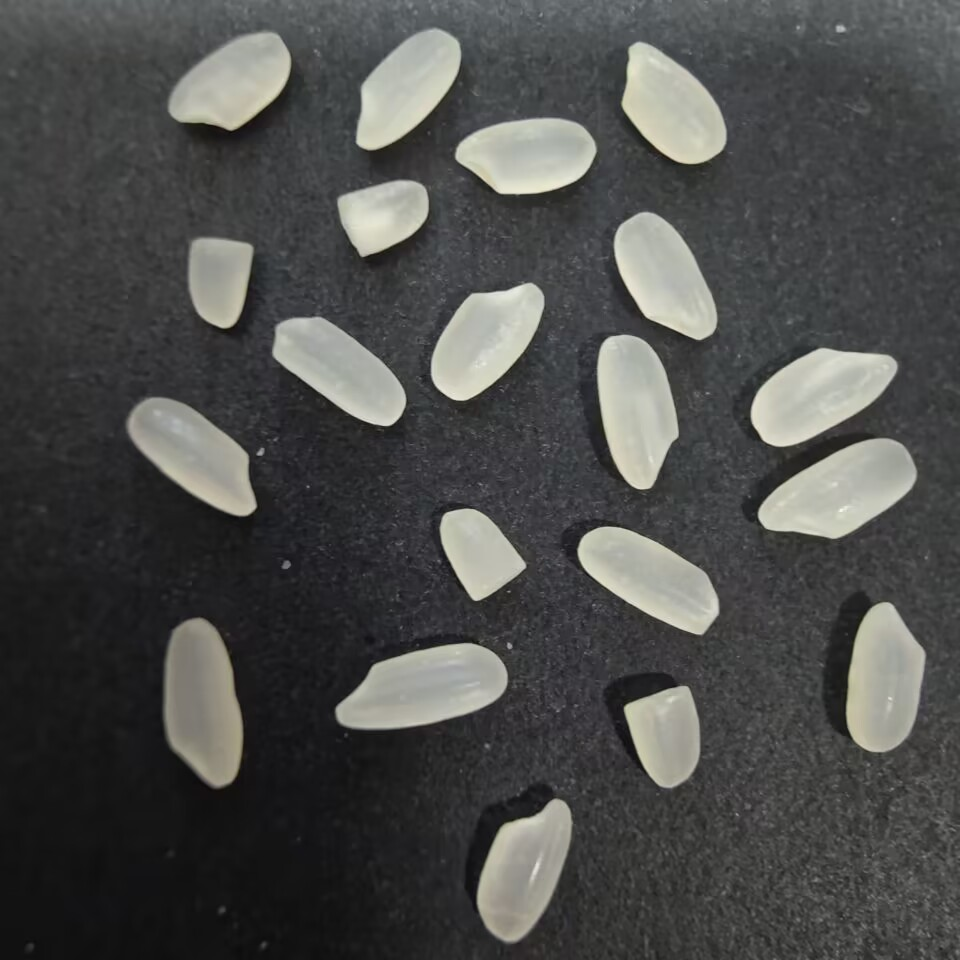broken: (615, 678, 708, 796), (431, 502, 528, 609), (328, 174, 434, 261), (178, 233, 259, 331)
rice: (748, 434, 920, 542), (121, 394, 267, 519), (267, 310, 410, 437), (329, 638, 512, 737), (571, 522, 725, 638), (745, 341, 904, 452), (473, 788, 579, 948), (606, 206, 722, 347), (157, 613, 247, 794), (592, 330, 686, 496), (839, 592, 933, 756), (160, 23, 298, 134), (616, 35, 730, 169), (428, 276, 546, 404), (348, 26, 465, 152), (450, 114, 602, 199)
